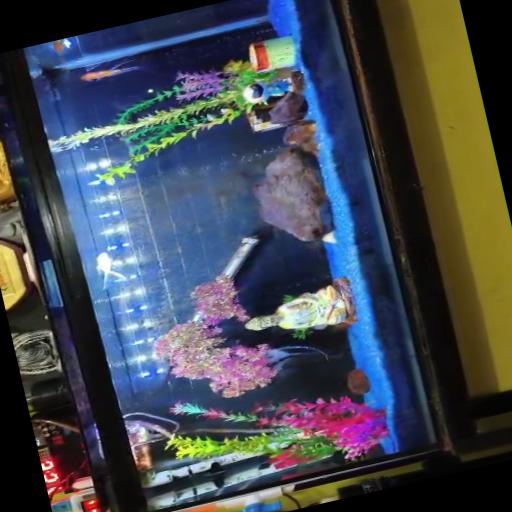Fish: (267, 345, 330, 367), (81, 59, 142, 81), (97, 252, 127, 291), (53, 40, 65, 53)
